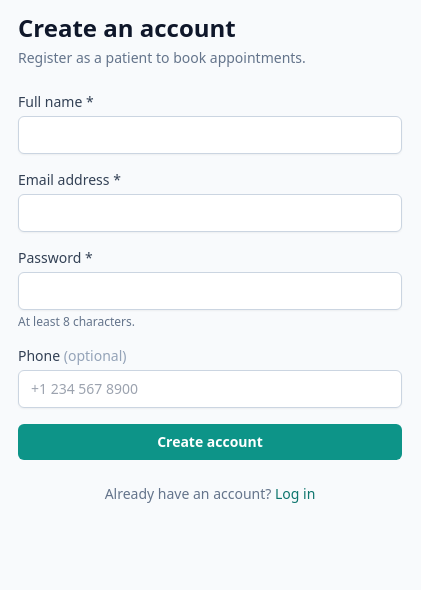
it: RegisterPage › shows error banner when email is already taken (409 EMAIL_TAKEN)
This screenshot has width=421, height=590.
Type "Existing User" into the field labelled "Full name *" at (210, 135), box [18,116,402,154]
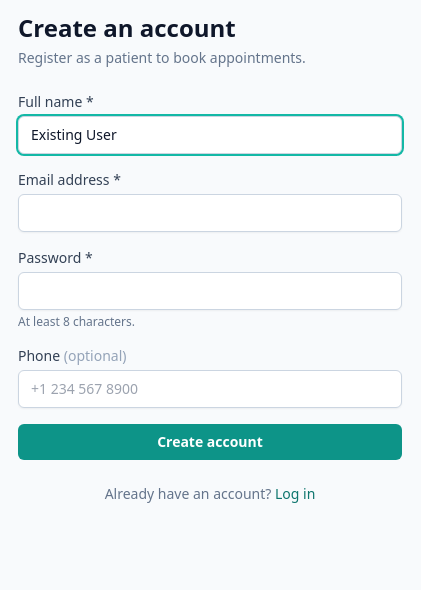
Type "patient@example.com" into the field labelled "Email address *" at (210, 213), box [18,194,402,232]
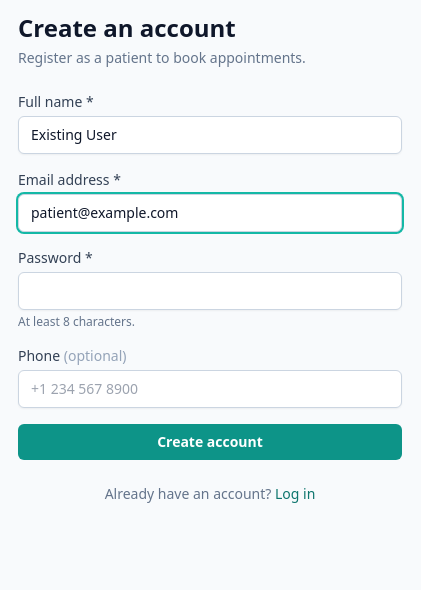
Type "password123" into the password field labelled "Password *" at (210, 291), box [18,272,402,310]
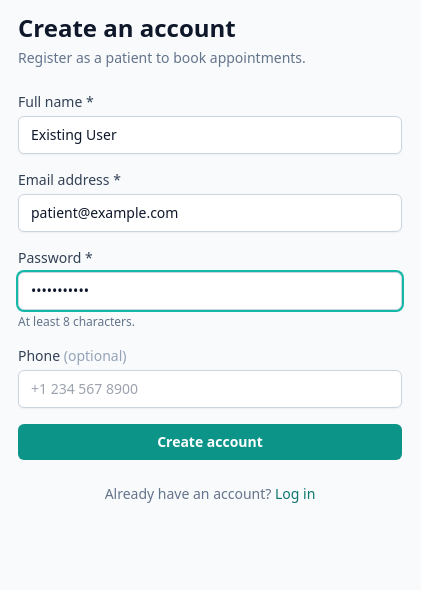
Click the button "Create account" at (210, 442), box [18,424,402,460]
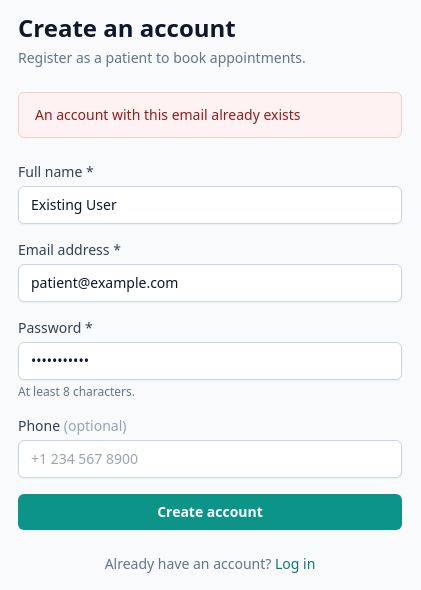
Result: the message reads "An account with this email already exists" at [35,105,300,124]
